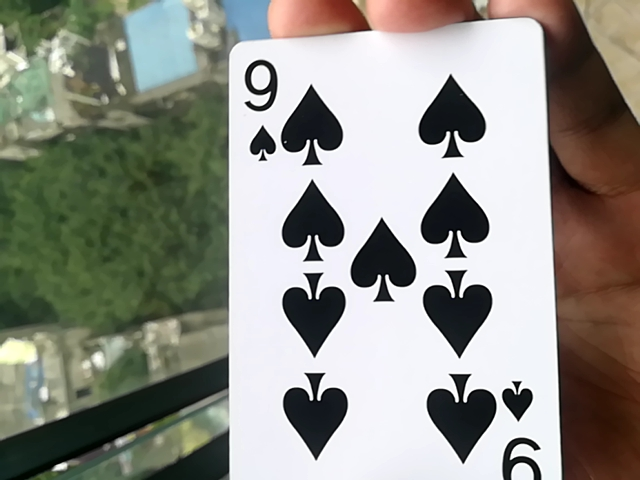ht 9: (216, 28, 565, 479)
